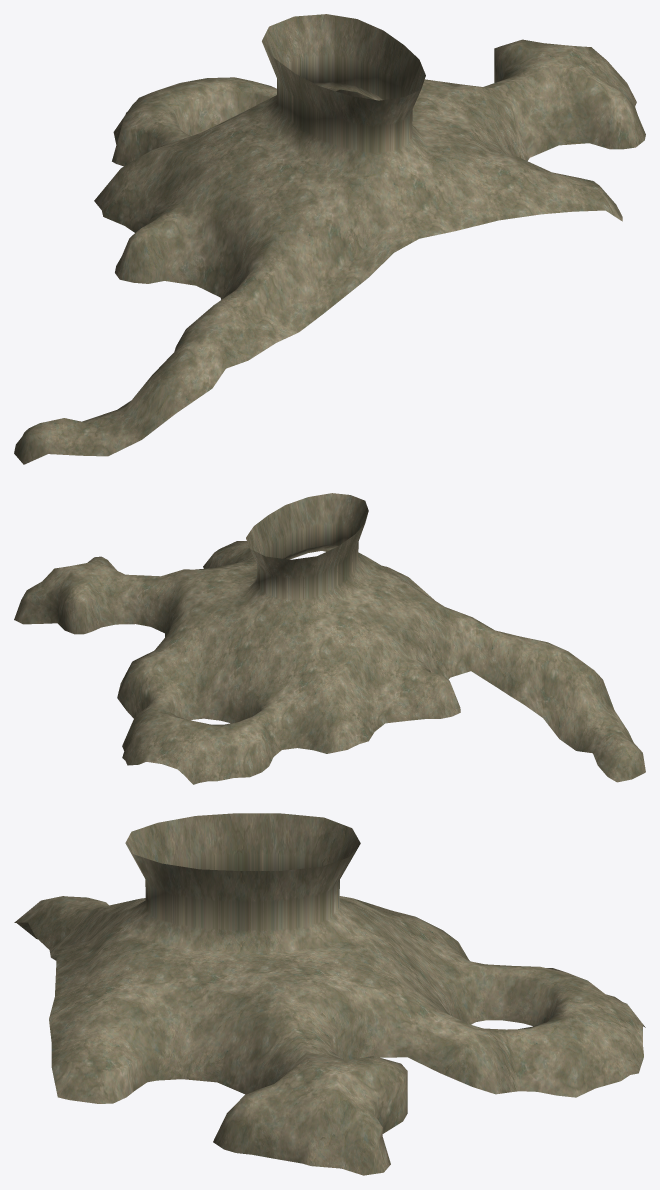
The model's file is EKH_THRONE_PS_TH_CEILING_01.fbx.
The picture shows the model from 3 angles, top to bottom: view 1: azimuth 30°, elevation 25°; view 2: azimuth 150°, elevation 25°; view 3: azimuth 270°, elevation 25°; orthographic projection. The views are drawn at different scales.
Visible parts, largest first — view 1: EKH_THRONE_PS_TH_CEILING_01; view 2: EKH_THRONE_PS_TH_CEILING_01; view 3: EKH_THRONE_PS_TH_CEILING_01.
Part boxes in pixels (x1,y1,x2,y2): EKH_THRONE_PS_TH_CEILING_01: (14,14,645,464); EKH_THRONE_PS_TH_CEILING_01: (14,493,645,784); EKH_THRONE_PS_TH_CEILING_01: (14,813,645,1175).
Size of the model in its own units: 416743 by 153064 by 302125.
Materials: 1 (1 with a texture image).
